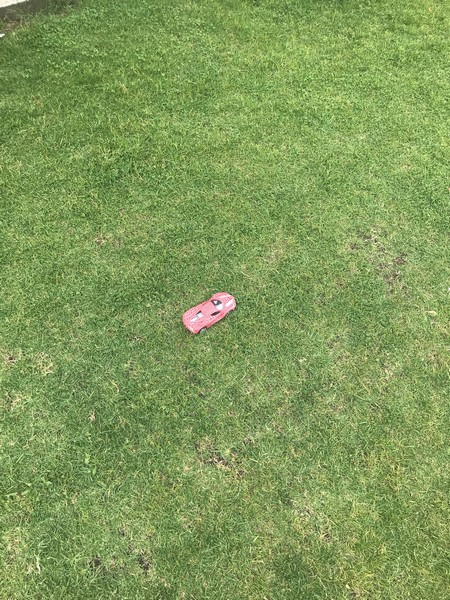RC: (180, 290, 239, 335)
